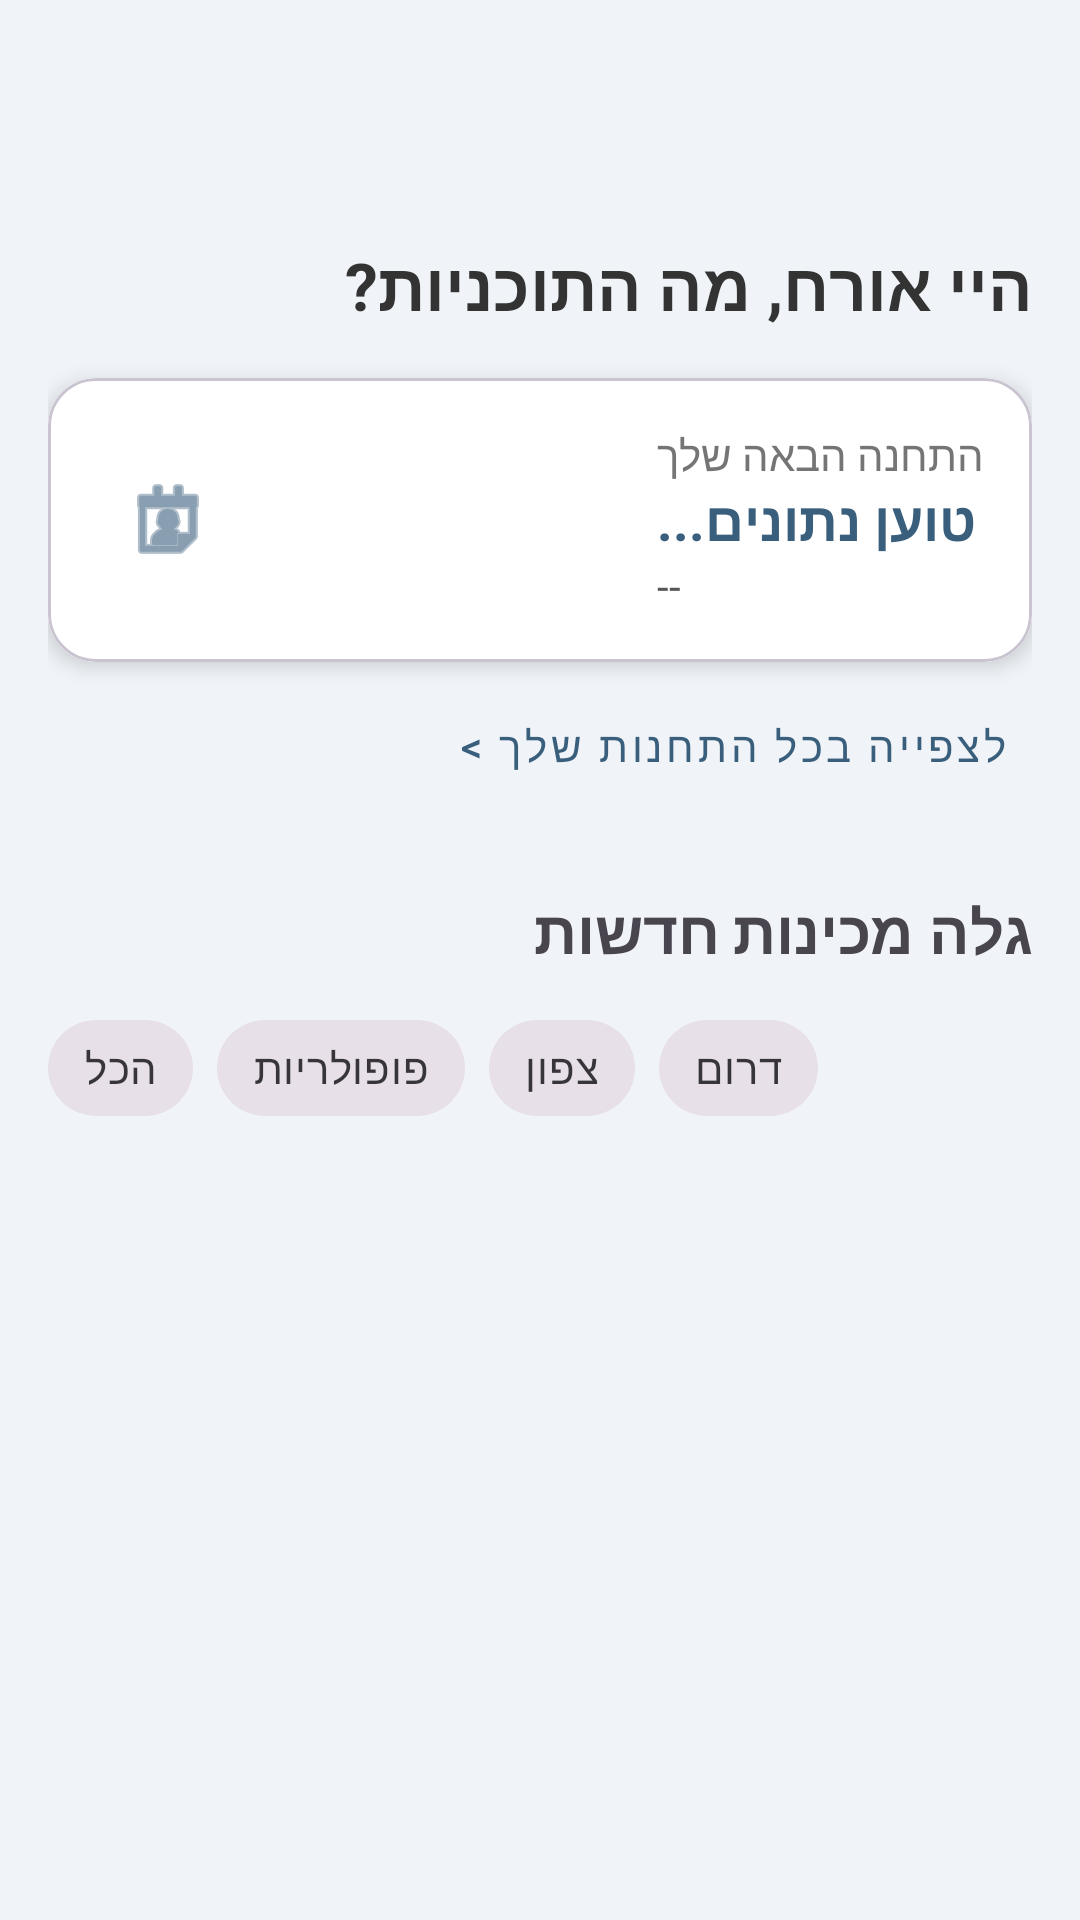

Where icons sit on this 1080*1920 app screen, as (x1, y1, x2, y2):
calendar: (137, 484, 199, 554)
